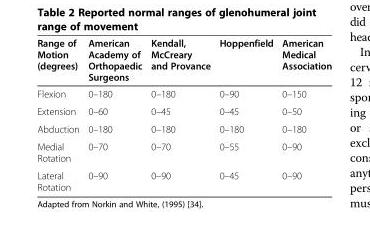table: (36, 36, 331, 192)
table column: (145, 36, 214, 192), (83, 36, 145, 192), (214, 36, 276, 192), (276, 36, 331, 192), (36, 36, 83, 192)
table column header: (36, 36, 331, 85)
table row: (36, 36, 331, 85), (36, 137, 331, 166), (36, 166, 331, 192), (36, 119, 331, 137), (36, 85, 331, 102), (36, 102, 331, 119)
